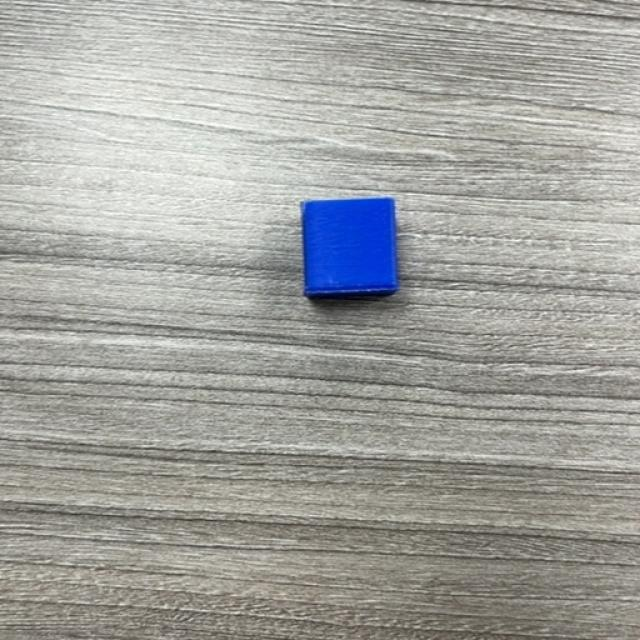Azul: (300, 196, 401, 300)
